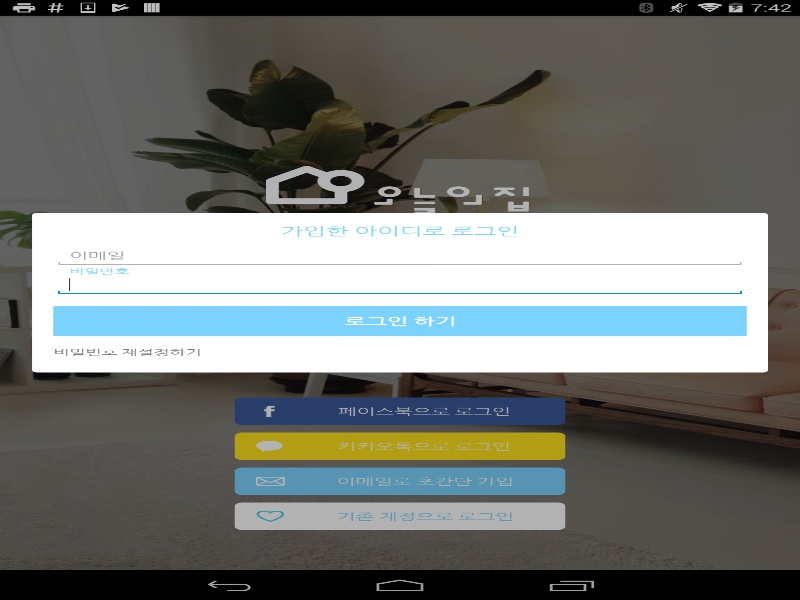Input: (53, 245, 746, 267), (53, 274, 746, 296)
